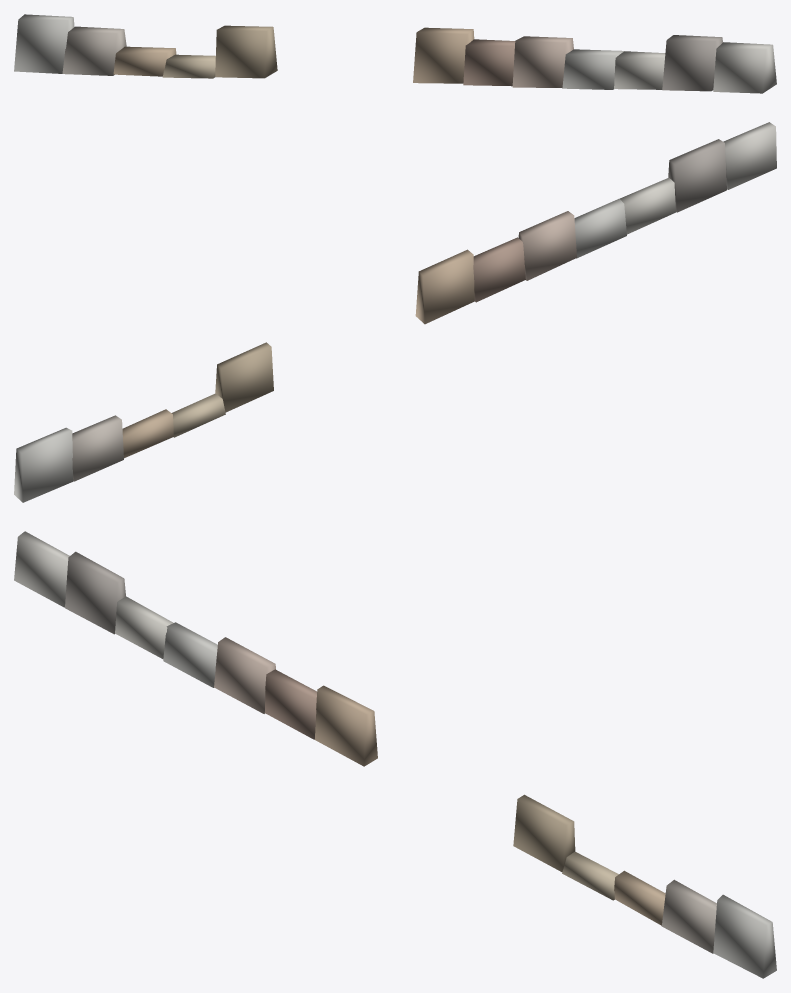
The model's file is farm_-36_-27_far.glb.
3 views of the same model, one above another, from view 1: azimuth 90°, elevation 25°; view 2: azimuth 150°, elevation 25°; view 3: azimuth 270°, elevation 25° (orthographic). The views are drawn at different scales.
Visible parts, largest first — view 1: geometry_0; view 2: geometry_0; view 3: geometry_0.
Part boxes in pixels (x1,y1,x2,y2): geometry_0: (14, 14, 776, 93); geometry_0: (14, 122, 776, 502); geometry_0: (14, 531, 776, 978).
Bounding box in the file's own units: 13.49 × 6.67 × 19.96.
